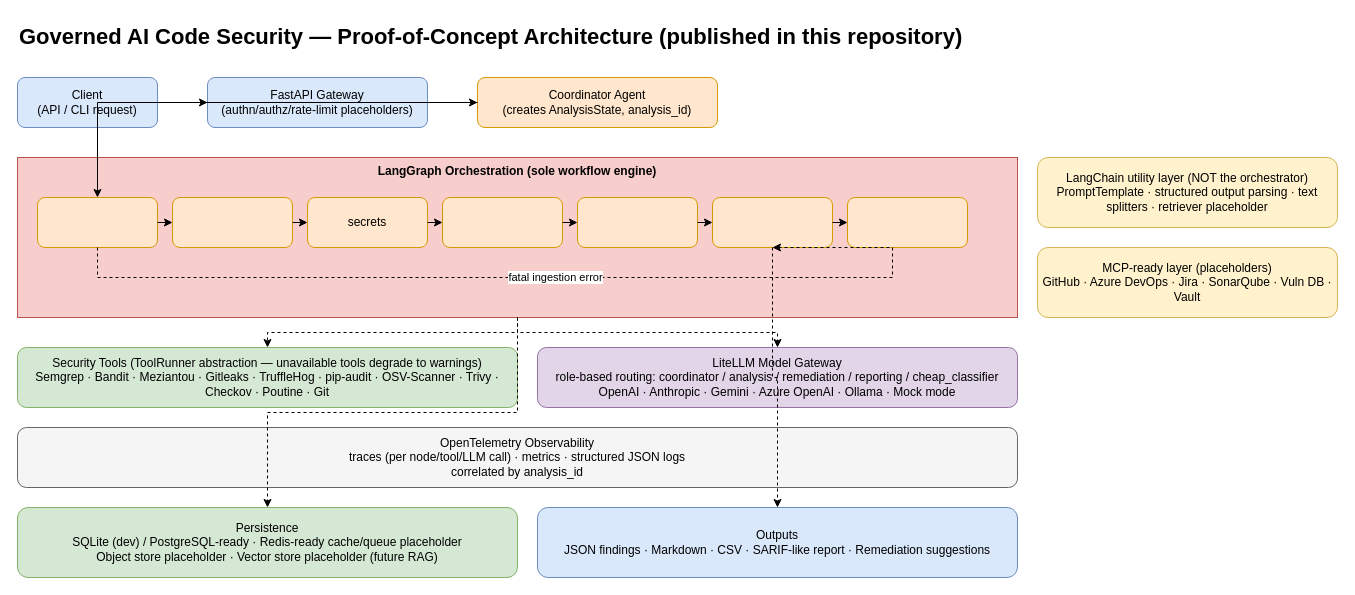
This 1355x595 diagram has some shape labels left out. The centre of each missing label's shape, as x and y in pixels:
"cicd" belongs at point 637,222.
"dependency" belongs at point 502,222.
"remediation" belongs at point 772,222.
"repo_ingestion" belongs at point 97,222.
"report" belongs at point 907,222.
"sast" belongs at point 232,222.
